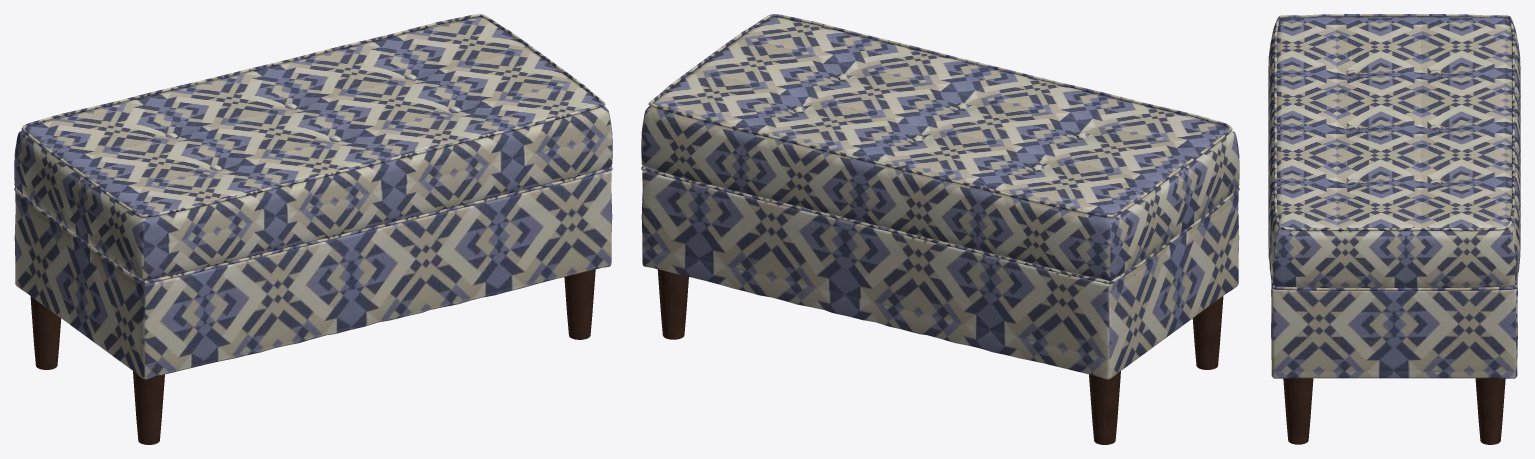
Rendered from abo-B073GC43QZ.glb.
3 views of the same model, side by side, from view 1: azimuth 30°, elevation 25°; view 2: azimuth 150°, elevation 25°; view 3: azimuth 270°, elevation 25° (orthographic). The views are drawn at different scales.
Bounding box in the file's own units: 1.02 × 0.477 × 0.492.
Materials: 1 (1 with a texture image).
